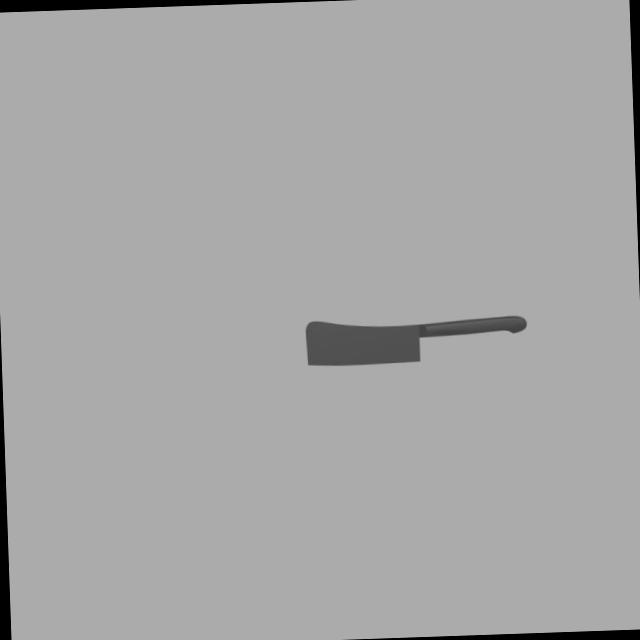knife: (418, 314, 527, 336)
